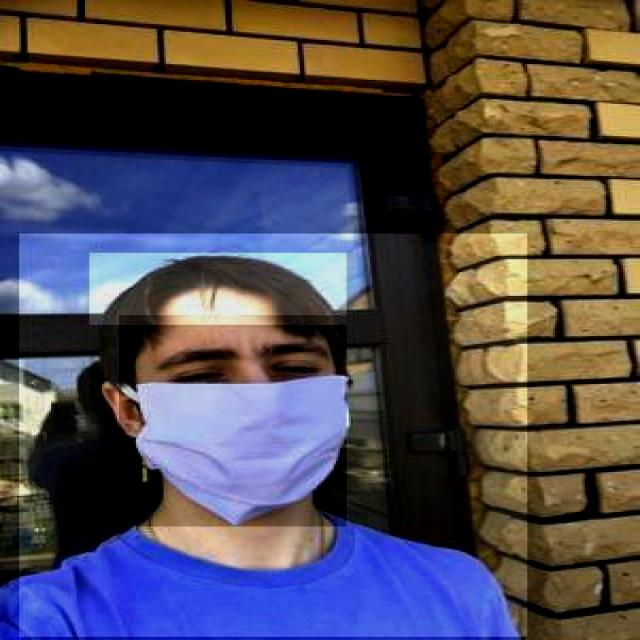face_mask: (119, 316, 347, 526)
head_nohelmet: (89, 253, 347, 325)
person: (19, 234, 530, 638)
